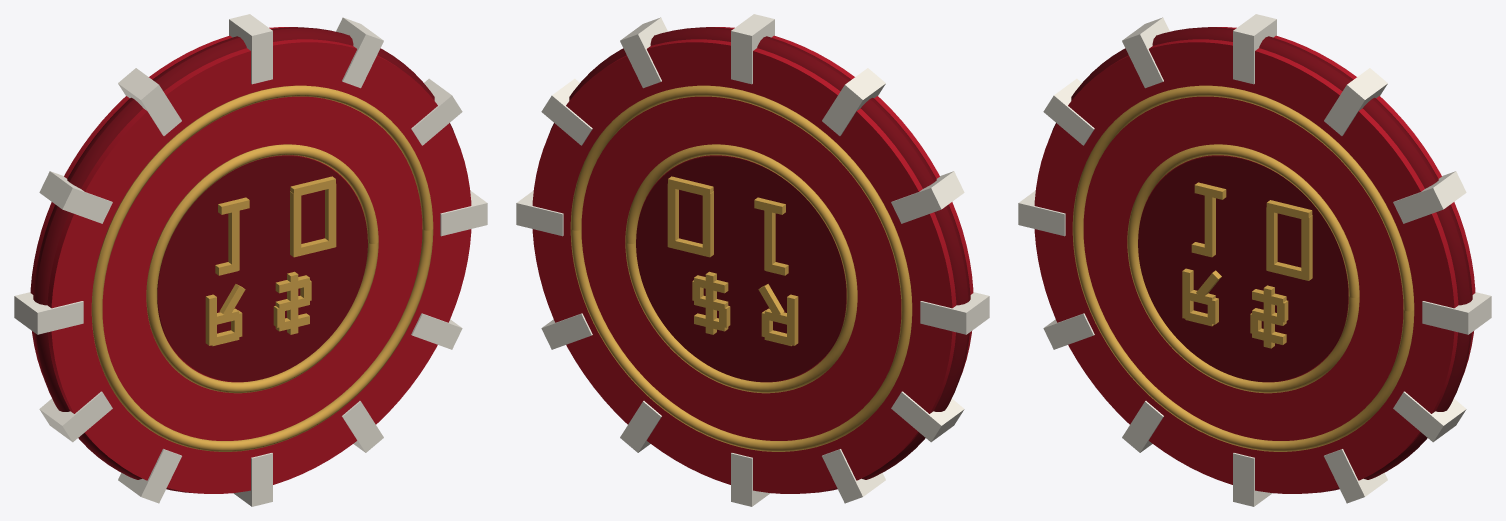
File: vermelha-10.glb
The picture shows the model from 3 angles, left to right: view 1: azimuth 30°, elevation 25°; view 2: azimuth 150°, elevation 25°; view 3: azimuth 330°, elevation 25°; orthographic projection.
Parts seen in each view (by area): view 1: Corpo_Vermelho, Centro_1, Anel_Dourado_1_1.18, Anel_Dourado_1_0.79, Borda_Externa, Inserto_Branco_7, Inserto_Branco_9, Inserto_Branco_10, Inserto_Branco_8, Inserto_Branco_6, Inserto_Branco_11, Inserto_Branco_5 (+10 smaller); view 2: Corpo_Vermelho, Centro_-1, Anel_Dourado_-1_1.18, Anel_Dourado_-1_0.79, Borda_Externa, Inserto_Branco_7, Inserto_Branco_9, Inserto_Branco_10, Inserto_Branco_8, Inserto_Branco_6, Inserto_Branco_11, Inserto_Branco_5 (+10 smaller); view 3: Corpo_Vermelho, Centro_1, Anel_Dourado_1_1.18, Anel_Dourado_1_0.79, Borda_Externa, Inserto_Branco_1, Inserto_Branco_11, Inserto_Branco_10, Inserto_Branco_12, Inserto_Branco_2, Inserto_Branco_9, Inserto_Branco_3 (+10 smaller).
Boxes of the visible parts, left/top/right/bottom form: Corpo_Vermelho: left=30, top=27, right=471, bottom=493; Centro_1: left=157, top=155, right=367, bottom=381; Anel_Dourado_1_1.18: left=91, top=85, right=433, bottom=451; Anel_Dourado_1_0.79: left=146, top=144, right=378, bottom=393; Borda_Externa: left=33, top=27, right=455, bottom=493; Inserto_Branco_7: left=14, top=292, right=83, bottom=334; Inserto_Branco_9: left=118, top=68, right=181, bottom=135; Inserto_Branco_10: left=229, top=14, right=272, bottom=84; Inserto_Branco_8: left=39, top=171, right=112, bottom=223; Inserto_Branco_6: left=39, top=391, right=112, bottom=442; Inserto_Branco_11: left=336, top=17, right=383, bottom=88; Inserto_Branco_5: left=118, top=449, right=181, bottom=503; Corpo_Vermelho: left=532, top=27, right=973, bottom=493; Centro_-1: left=636, top=155, right=846, bottom=381; Anel_Dourado_-1_1.18: left=570, top=85, right=912, bottom=451; Anel_Dourado_-1_0.79: left=625, top=144, right=857, bottom=393; Borda_Externa: left=548, top=27, right=970, bottom=493; Inserto_Branco_7: left=920, top=292, right=989, bottom=334; Inserto_Branco_9: left=822, top=68, right=885, bottom=135; Inserto_Branco_10: left=731, top=14, right=774, bottom=84; Inserto_Branco_8: left=891, top=171, right=964, bottom=223; Inserto_Branco_6: left=891, top=391, right=964, bottom=442; Inserto_Branco_11: left=620, top=17, right=667, bottom=88; Inserto_Branco_5: left=822, top=449, right=885, bottom=503; Corpo_Vermelho: left=1034, top=27, right=1475, bottom=493; Centro_1: left=1138, top=155, right=1348, bottom=381; Anel_Dourado_1_1.18: left=1072, top=85, right=1414, bottom=451; Anel_Dourado_1_0.79: left=1127, top=144, right=1359, bottom=393; Borda_Externa: left=1050, top=27, right=1472, bottom=493; Inserto_Branco_1: left=1422, top=292, right=1491, bottom=334; Inserto_Branco_11: left=1324, top=68, right=1387, bottom=135; Inserto_Branco_10: left=1233, top=14, right=1276, bottom=84; Inserto_Branco_12: left=1393, top=171, right=1466, bottom=223; Inserto_Branco_2: left=1393, top=391, right=1466, bottom=442; Inserto_Branco_9: left=1122, top=17, right=1169, bottom=88; Inserto_Branco_3: left=1324, top=449, right=1387, bottom=503.
Bounding box in the file's own units: 3.21 × 3.21 × 0.385.
